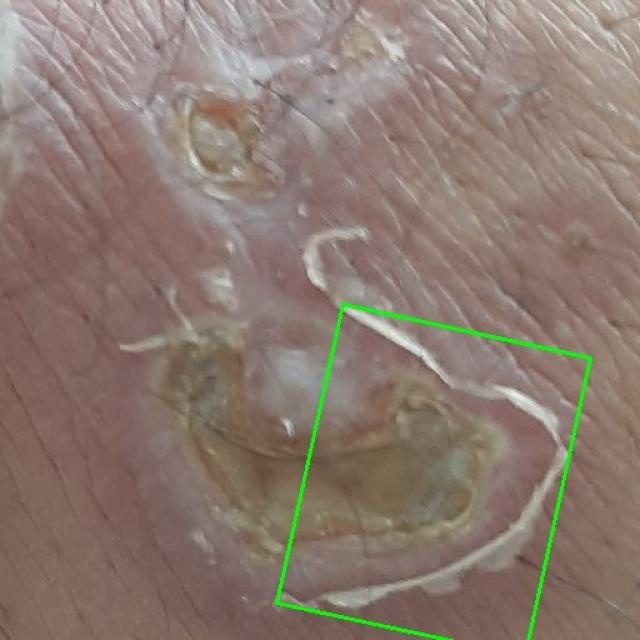Contact Dermatitis: (277, 304, 591, 640)
